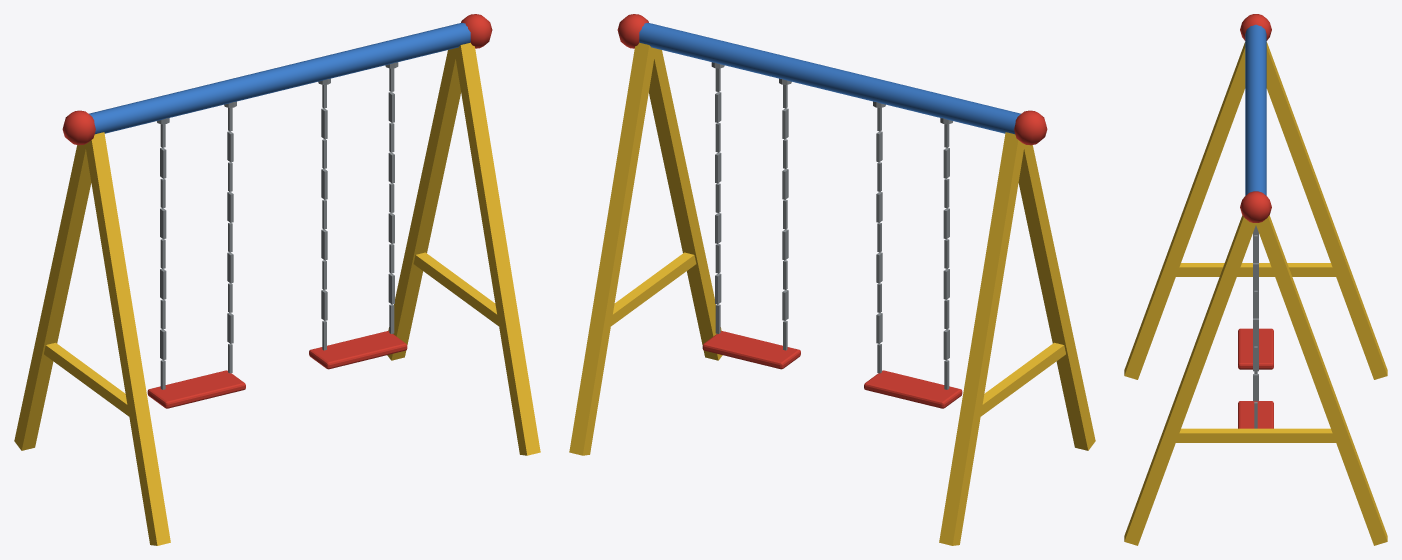
The model's file is balanco.glb.
3 renders of one model, left to right at view 1: azimuth 30°, elevation 25°; view 2: azimuth 150°, elevation 25°; view 3: azimuth 270°, elevation 25°, orthographic. The views are drawn at different scales.
Visible parts, largest first — view 1: balanco; view 2: balanco; view 3: balanco.
Part boxes in pixels (x1,y1,x2,y2): balanco: [14, 14, 540, 545]; balanco: [569, 14, 1095, 545]; balanco: [1124, 14, 1387, 545].
Size of the model in its own units: 2.53 by 2.2 by 1.48.
